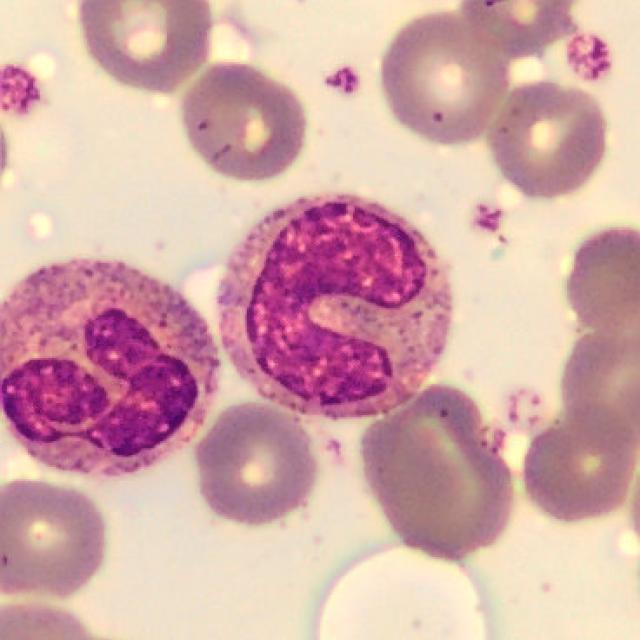Bastonete: (215, 189, 452, 420)
